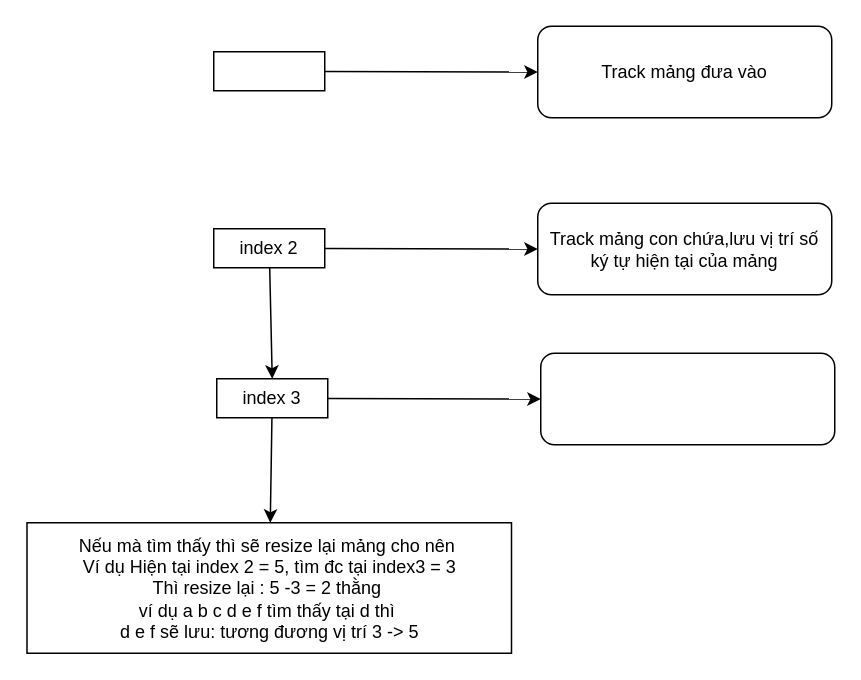
Image size: 861x680. Some labels were removed from this diagram. The centre of each missing label's shape, as x and y in pixels:
"index 1" goes at (x=268, y=70).
"Lưu vị trí tìm được trong mảng" goes at (x=687, y=398).
